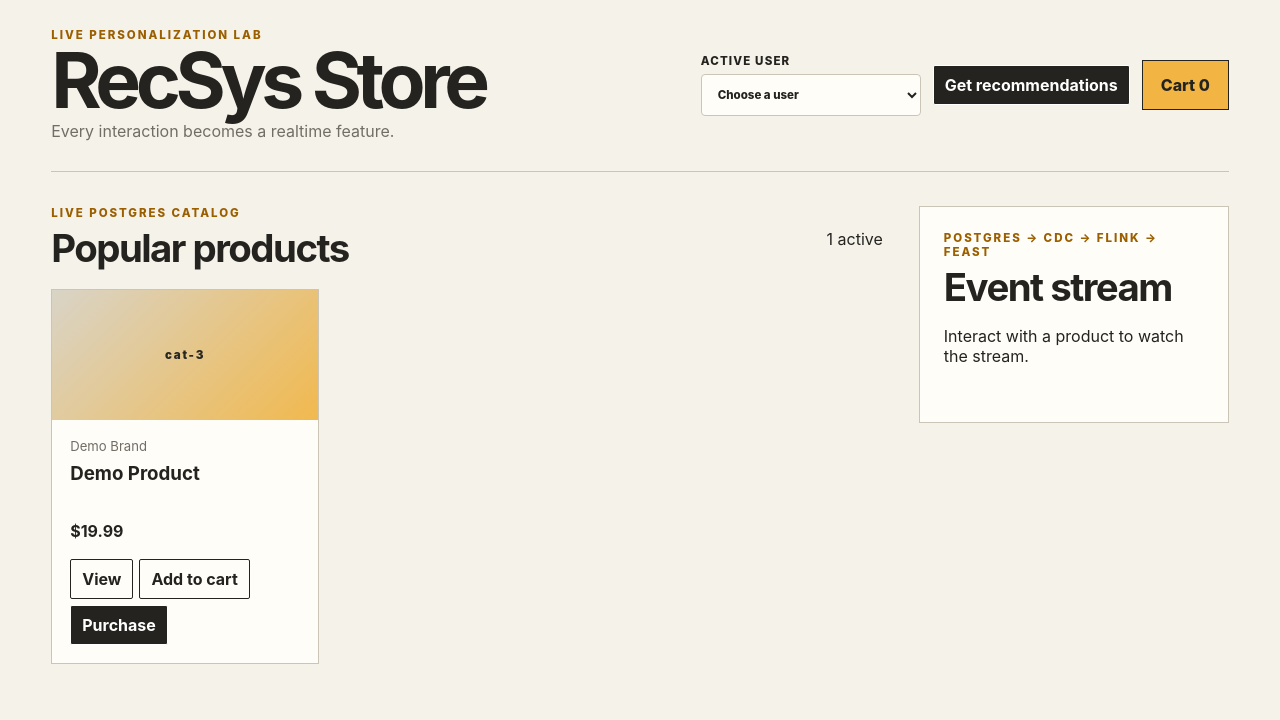
Test case: loads live catalog and requests recommendations for the selected user
Expected: the heading "Demo Product" is shown, [70, 462, 200, 485]
Step 1. Select "User 1 · vip" in the dropdown labelled "Active user" → (811, 94), box [701, 74, 921, 116]
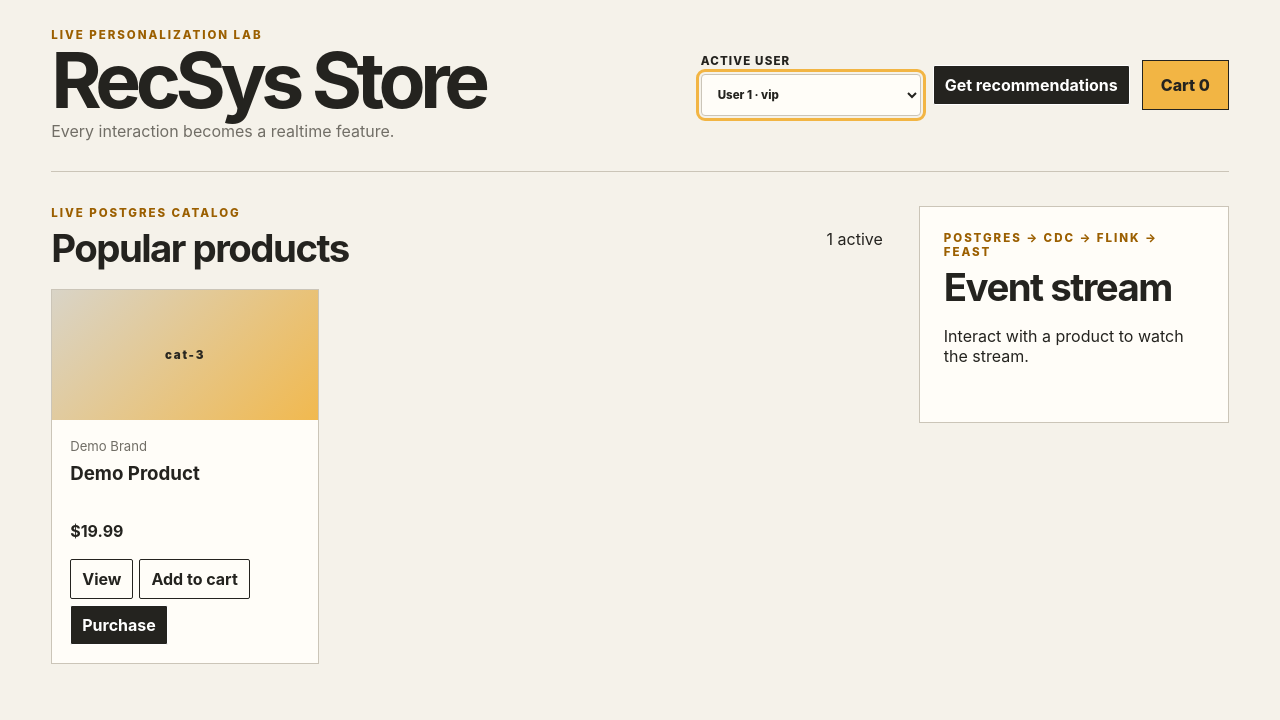
Step 2. Click the button "Get recommendations" → (1031, 84), box [933, 64, 1130, 104]
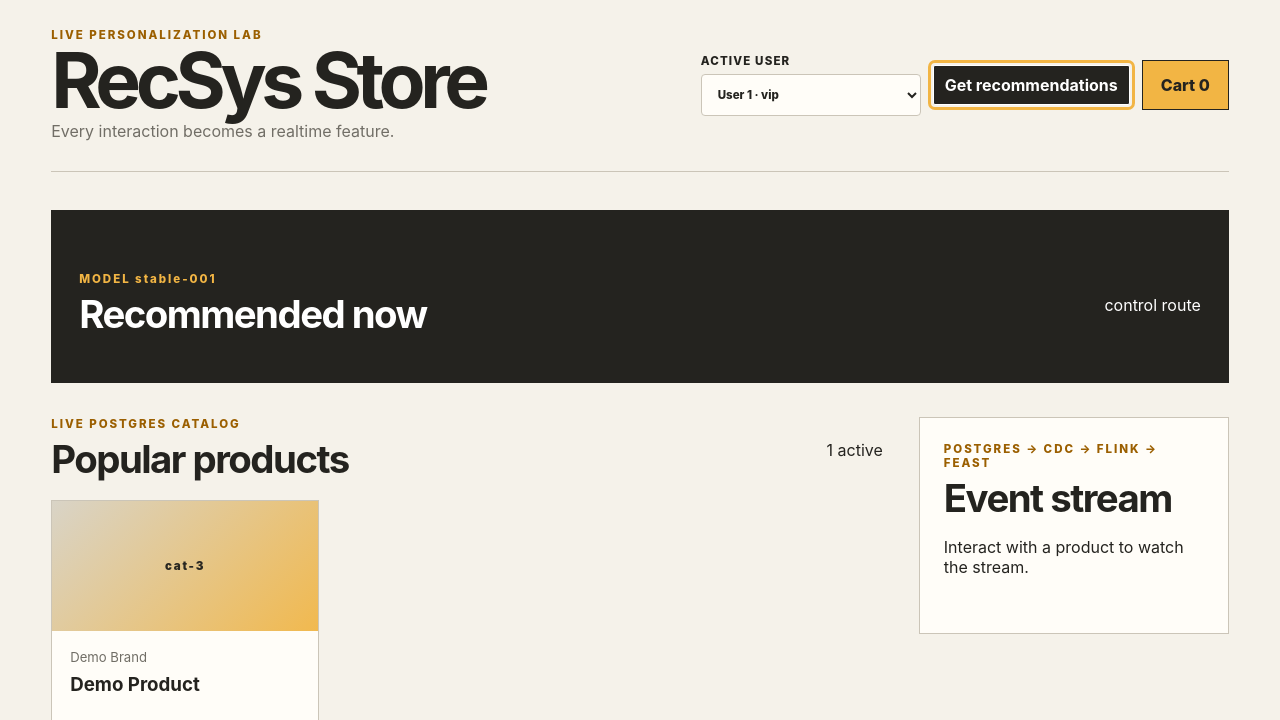
Now the heading "Recommended now" is shown, box [79, 291, 427, 337]
Now the text "MODEL stable-001" is shown, box [79, 272, 216, 286]
